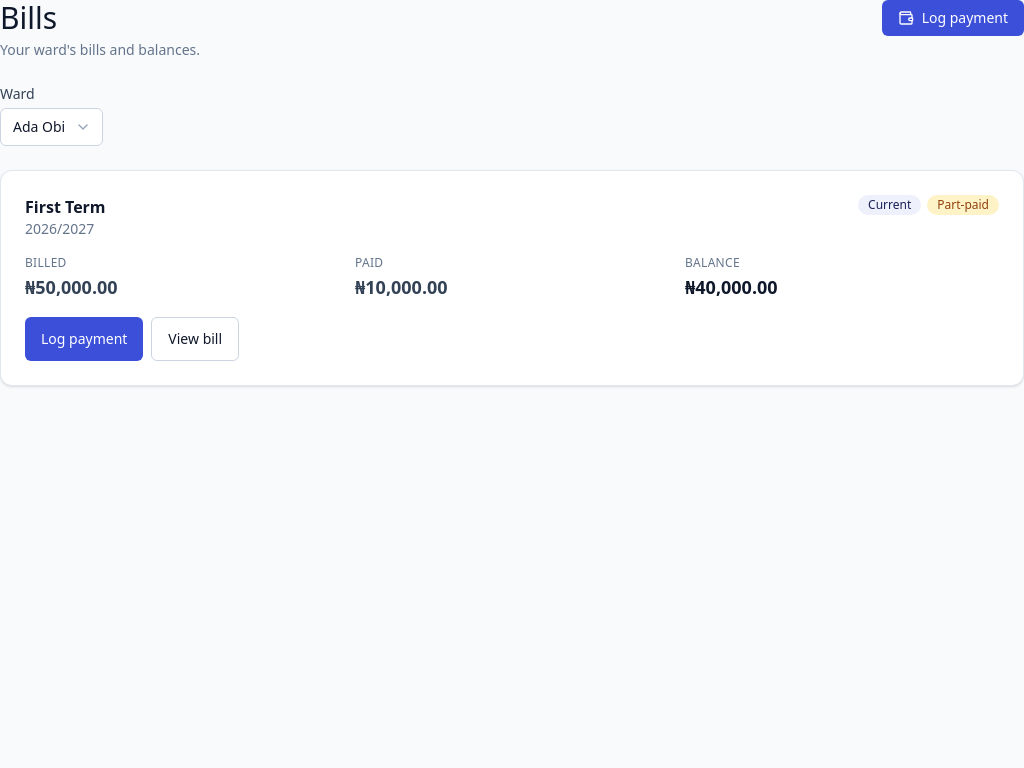
Scenario: WardBillsPage › opens the log-payment sheet from Log payment
Click the 1st button "Log payment".
click(953, 18)  # box [882,0,1023,36]
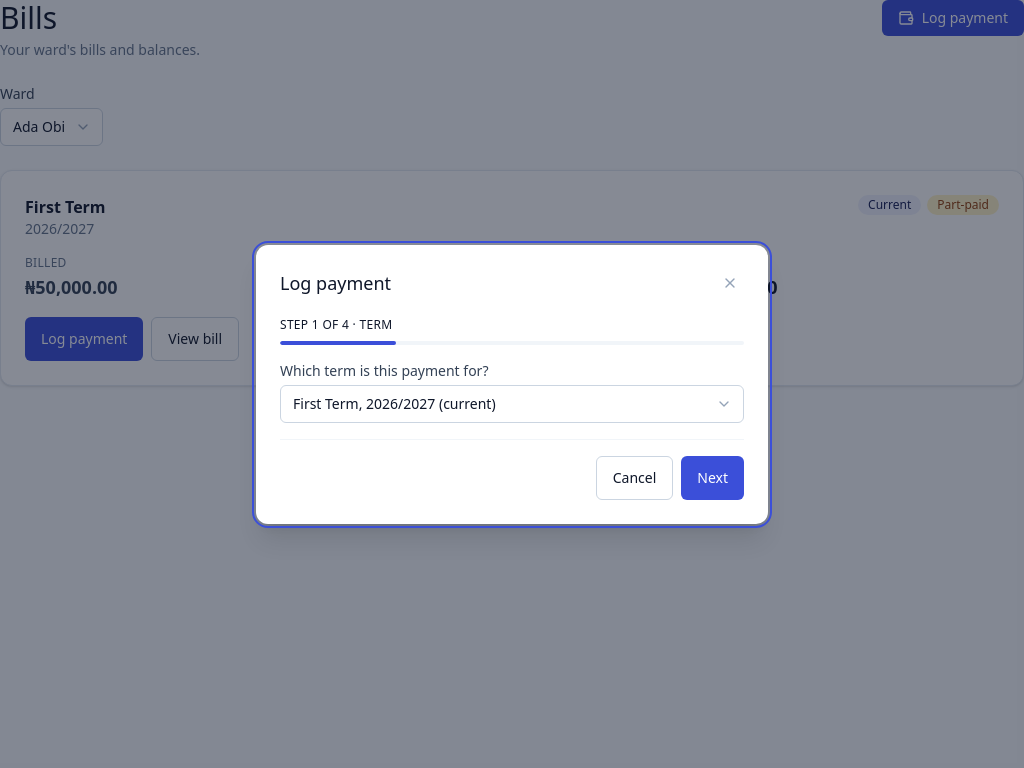
Expected: the dialog "Log payment" is shown, [256,244,768,524]
